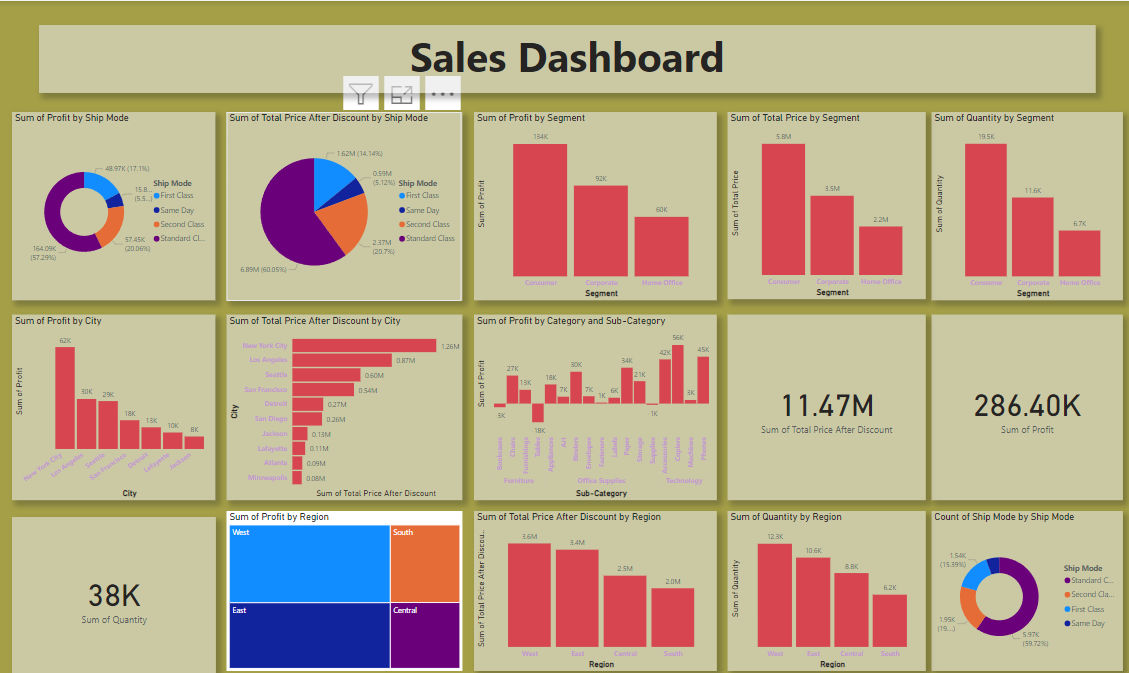

The page's visual inventory and layout, read from the dashboard file:
{"tool":"powerbi","page":{"name":"Page 1","canvas":[2000,1200],"ordinal":0},"visuals":[{"type":"donutChart","fields":{"Series":["Table13.Ship Mode"],"Y":["Sum(Table13.Profit)"]},"box":[21.6,196.4,359.3,332.9],"z":0},{"type":"pieChart","fields":{"Series":["Table13.Ship Mode"],"Y":["Sum(Table13.Total Price After Discount)"]},"box":[400,196.4,416.8,332.9],"z":1000},{"type":"clusteredColumnChart","fields":{"Y":["Sum(Table13.Profit)"],"Category":["Table13.Segment"]},"box":[838.3,196.4,428.7,332.9],"z":2000},{"type":"clusteredColumnChart","fields":{"Category":["Table13.Segment"],"Y":["Sum(Table13.Total Price)"]},"box":[1283.8,196.4,349.7,330.5],"z":3000},{"type":"clusteredColumnChart","fields":{"Category":["Table13.Segment"],"Y":["Sum(Table13.Quantity)"]},"box":[1645.5,196.4,337.7,332.9],"z":4000},{"type":"clusteredColumnChart","fields":{"Y":["Sum(Table13.Profit)"],"Category":["Table13.City"]},"box":[21.6,553.3,359.3,328.1],"z":5000},{"type":"clusteredBarChart","fields":{"Category":["Table13.City"],"Y":["Sum(Table13.Total Price After Discount)"]},"box":[400,553.3,416.8,328.1],"z":6000},{"type":"clusteredColumnChart","fields":{"Category":["Table13.Category","Table13.Sub-Category"],"Y":["Sum(Table13.Profit)"]},"box":[838.3,553.3,428.7,328.1],"z":7000},{"type":"card","fields":{"Values":["Sum(Table13.Total Price After Discount)"]},"box":[1283.8,553.3,349.7,328.1],"z":8000},{"type":"card","fields":{"Values":["Sum(Table13.Quantity)"]},"box":[21.2,911.3,360.3,283.4],"z":9000},{"type":"card","fields":{"Values":["Sum(Table13.Profit)"]},"box":[1645.5,553.3,337.7,328.1],"z":10000},{"type":"treemap","fields":{"Group":["Table13.Region"],"Values":["Sum(Table13.Profit)"]},"box":[400,900.6,416.8,282.6],"z":11000},{"type":"clusteredColumnChart","fields":{"Category":["Table13.Region"],"Y":["Sum(Table13.Total Price After Discount)"]},"box":[838.3,900.6,428.7,282.6],"z":12000},{"type":"clusteredColumnChart","fields":{"Category":["Table13.Region"],"Y":["Sum(Table13.Quantity)"]},"box":[1283.8,900.6,349.7,282.6],"z":13000},{"type":"donutChart","fields":{"Category":["Table13.Ship Mode"],"Y":["CountNonNull(Table13.Ship Mode)"]},"box":[1645.5,900.6,337.7,282.6],"z":14000},{"type":"textbox","box":[69.5,43.1,1865.9,119.8],"z":15000}]}

Visuals, with their boxes in screenshot pixels (x1, y1, x2, y2), scaled from the page's 2000x1200 canvas onto the 1129x673 screenshot:
donutChart - Table13.Ship Mode x Sum(Table13.Profit): 12:110:215:297
pieChart - Table13.Ship Mode x Sum(Table13.Total Price After Discount): 226:110:461:297
clusteredColumnChart - Sum(Table13.Profit) x Table13.Segment: 473:110:715:297
clusteredColumnChart - Table13.Segment x Sum(Table13.Total Price): 725:110:922:296
clusteredColumnChart - Table13.Segment x Sum(Table13.Quantity): 929:110:1120:297
clusteredColumnChart - Sum(Table13.Profit) x Table13.City: 12:310:215:494
clusteredBarChart - Table13.City x Sum(Table13.Total Price After Discount): 226:310:461:494
clusteredColumnChart - Table13.Category x Table13.Sub-Category: 473:310:715:494
card - Sum(Table13.Total Price After Discount): 725:310:922:494
card - Sum(Table13.Quantity): 12:511:215:670
card - Sum(Table13.Profit): 929:310:1120:494
treemap - Table13.Region x Sum(Table13.Profit): 226:505:461:664
clusteredColumnChart - Table13.Region x Sum(Table13.Total Price After Discount): 473:505:715:664
clusteredColumnChart - Table13.Region x Sum(Table13.Quantity): 725:505:922:664
donutChart - Table13.Ship Mode x CountNonNull(Table13.Ship Mode): 929:505:1120:664
textbox: 39:24:1093:91
